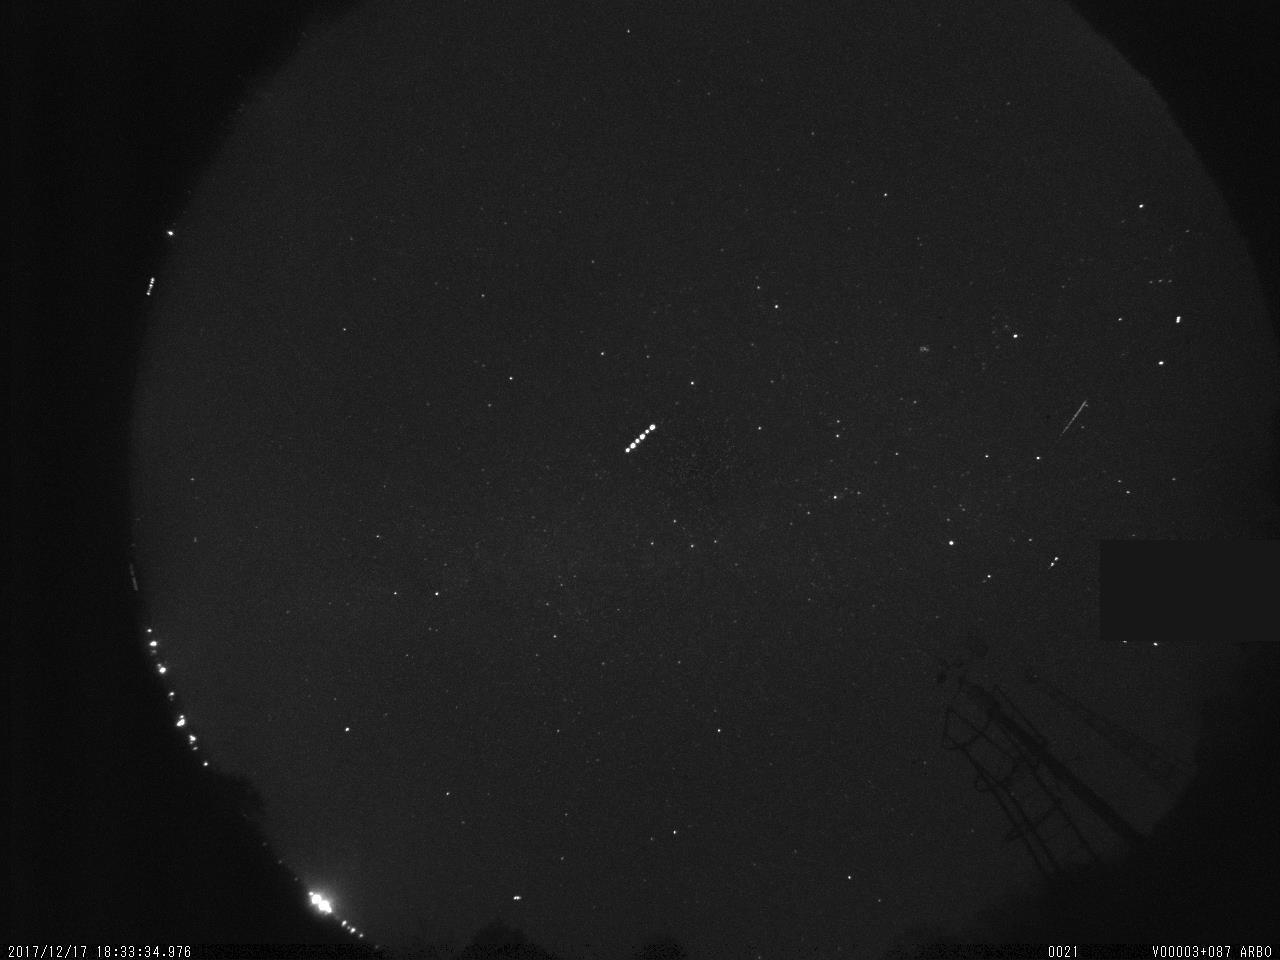meteor: (1049, 391, 1090, 449)
satelite: (618, 413, 664, 462)
